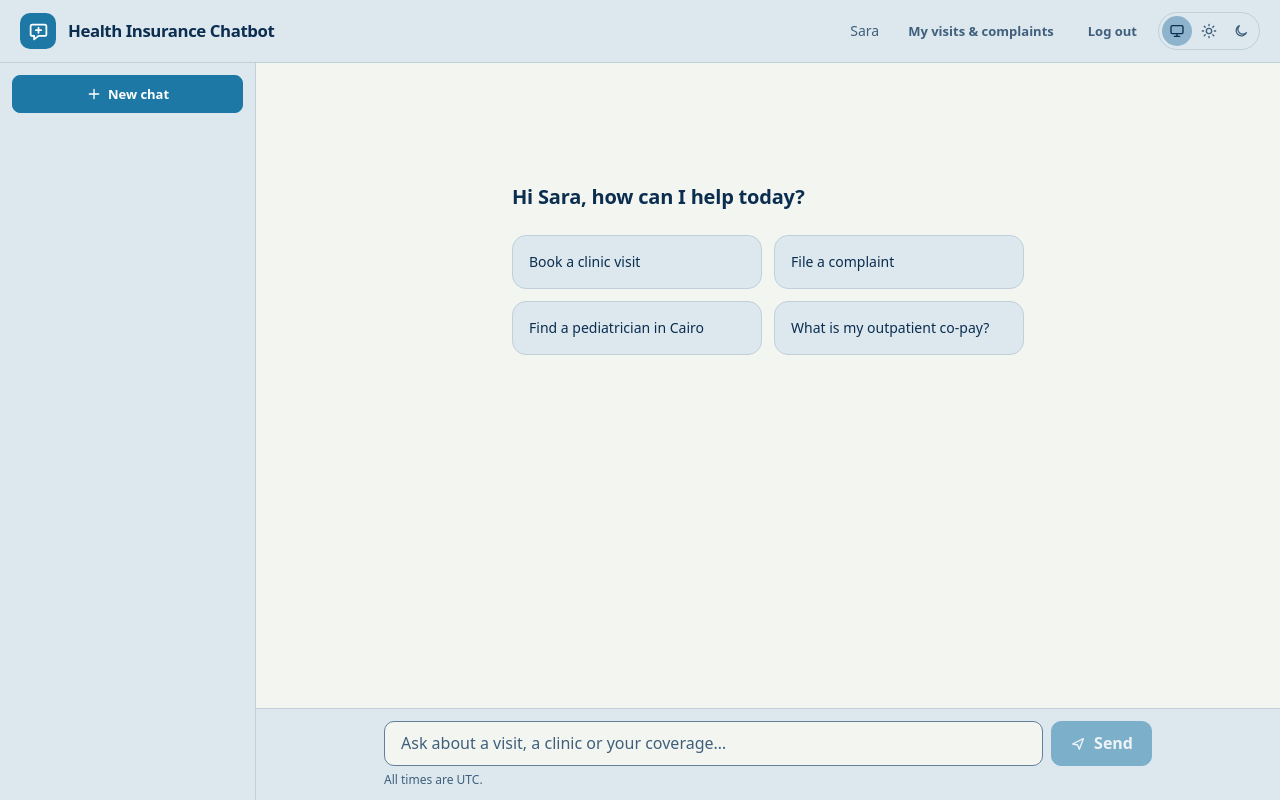
ChatPage › F15: a rejected request shows the server message
This screenshot has width=1280, height=800.
Type "hello" into the field with test id "chat-input" at (714, 744), box top-left (384, 721), bottom-right (1043, 766)
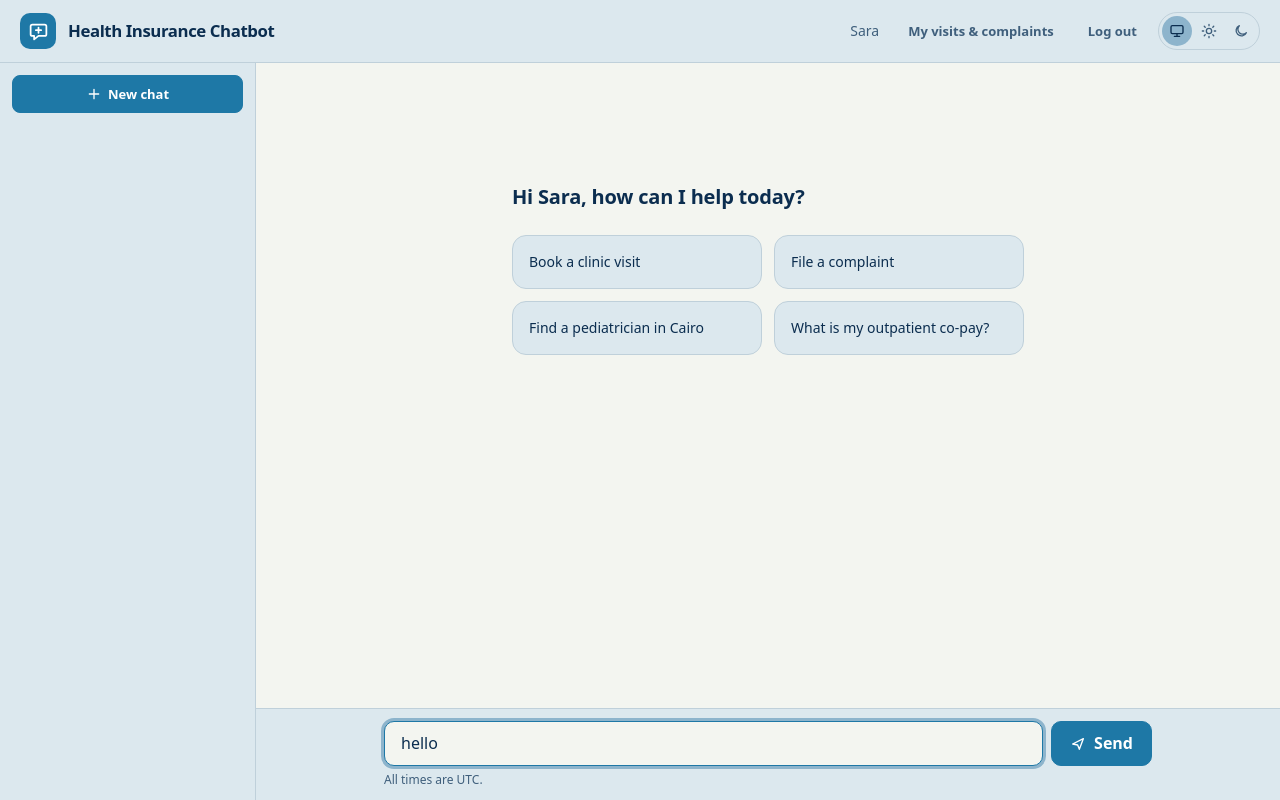
Click the button with test id "send-btn" at (1102, 744), box top-left (1051, 721), bottom-right (1152, 766)
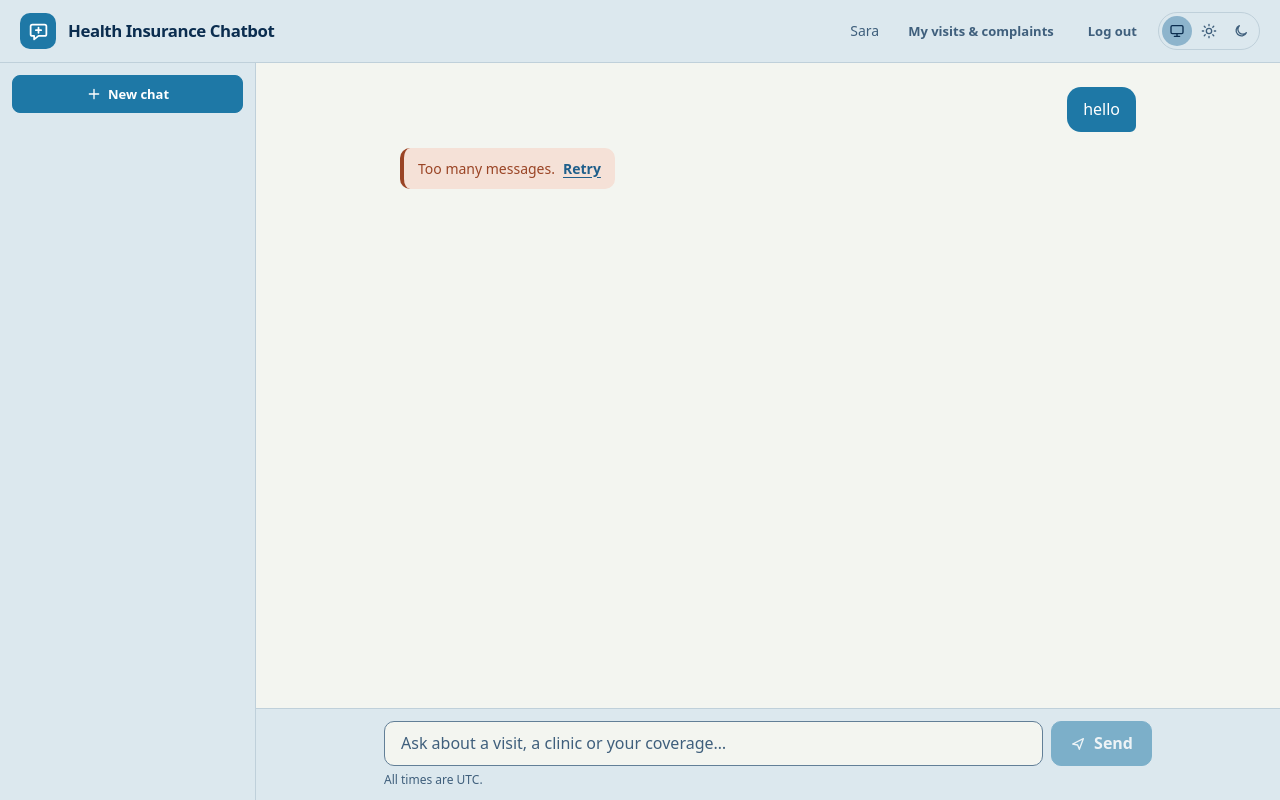
Expected: the text "Too many messages." is shown, top-left (418, 159), bottom-right (555, 178)
Expected: the button with test id "retry-btn" is shown, top-left (563, 158), bottom-right (601, 180)
